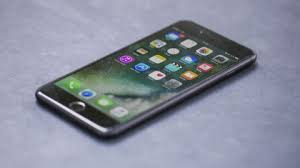iphone: (35, 17, 257, 144)
iphone7: (36, 17, 258, 144)
